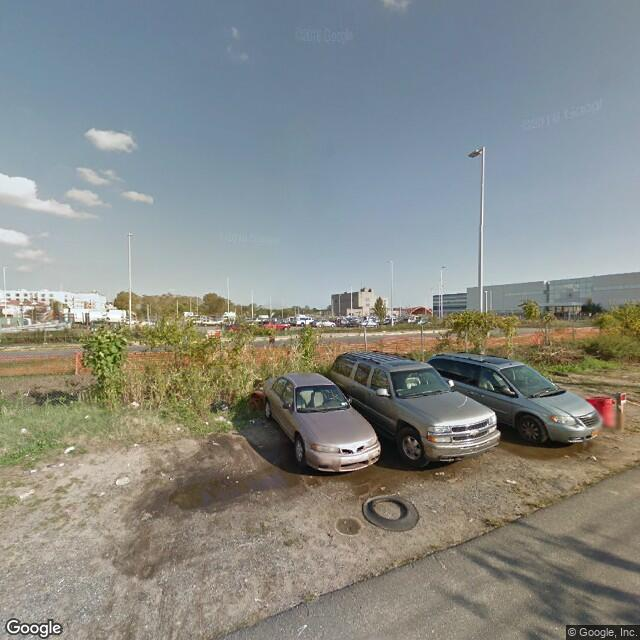litter: (211, 415, 236, 427), (15, 488, 36, 500), (127, 400, 142, 410), (114, 476, 130, 485), (63, 445, 75, 454), (19, 427, 30, 434), (82, 413, 90, 419)
